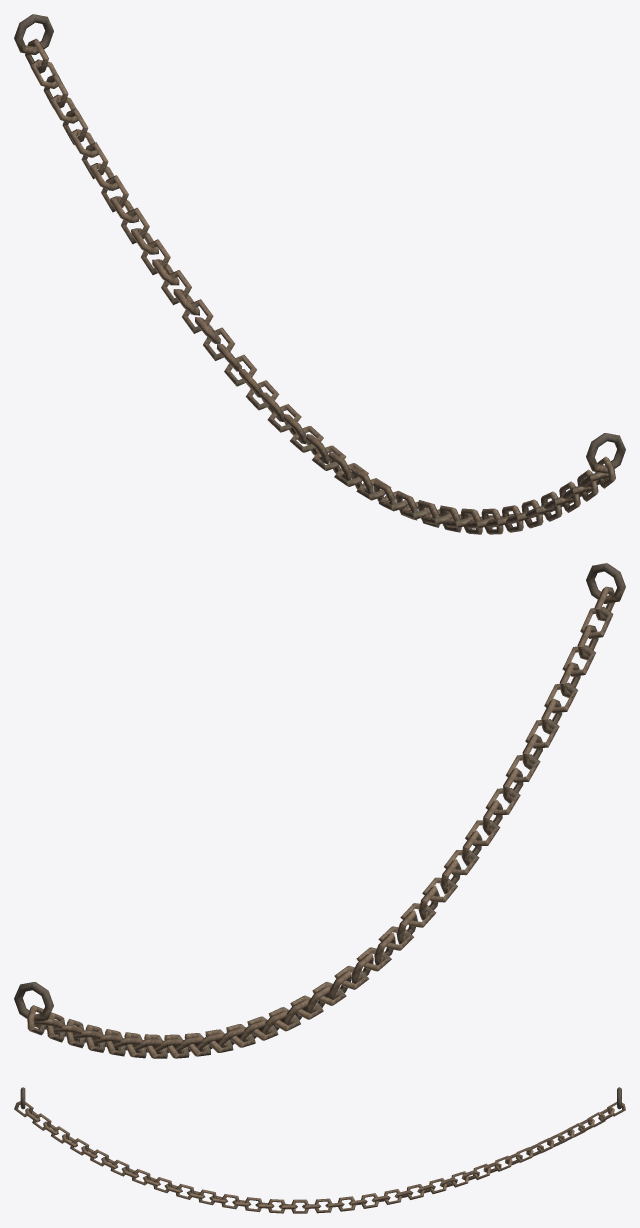
3 views of the same model, one above another, from view 1: azimuth 30°, elevation 25°; view 2: azimuth 150°, elevation 25°; view 3: azimuth 270°, elevation 25° (orthographic). The views are drawn at different scales.
Visible parts, largest first — view 1: SM_DR_CeilingChain_Joint_8m_LOD0; view 2: SM_DR_CeilingChain_Joint_8m_LOD0; view 3: SM_DR_CeilingChain_Joint_8m_LOD0.
Boxes of the visible parts, bbox=[...] form: SM_DR_CeilingChain_Joint_8m_LOD0: bbox=[14, 14, 625, 534]; SM_DR_CeilingChain_Joint_8m_LOD0: bbox=[14, 563, 625, 1058]; SM_DR_CeilingChain_Joint_8m_LOD0: bbox=[14, 1087, 625, 1213].
Size of the model in its own units: 0.3157 by 1.85 by 8.21.
1 material, 1 textured.
